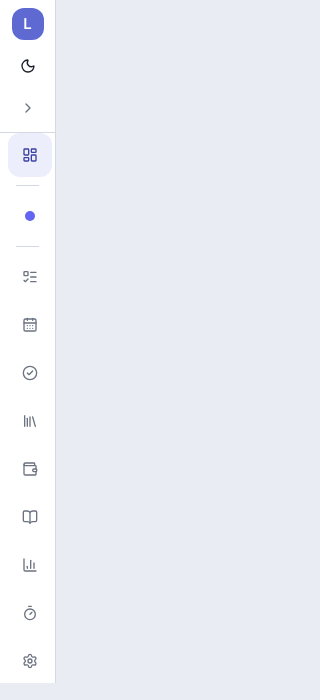
Test: Sidebar collapse › a manual choice while the chat is open is respected when it closes
Click the button named "Expand sidebar": {"x": 28, "y": 108} [12, 92, 44, 124]
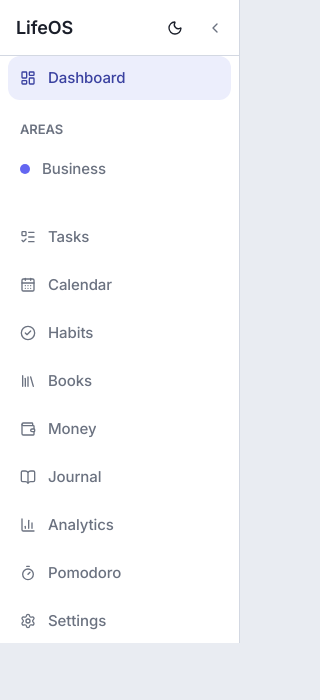
Expected: the text "Business" is shown, [42, 158, 106, 180]
